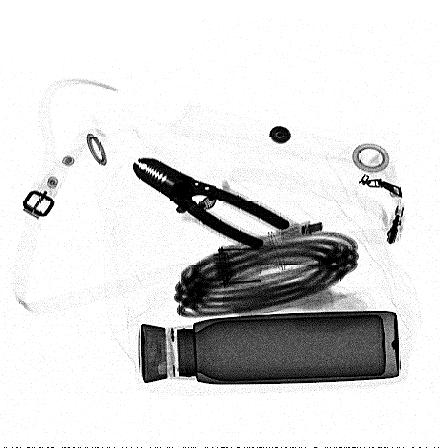Pliers: (133, 156, 292, 251)
